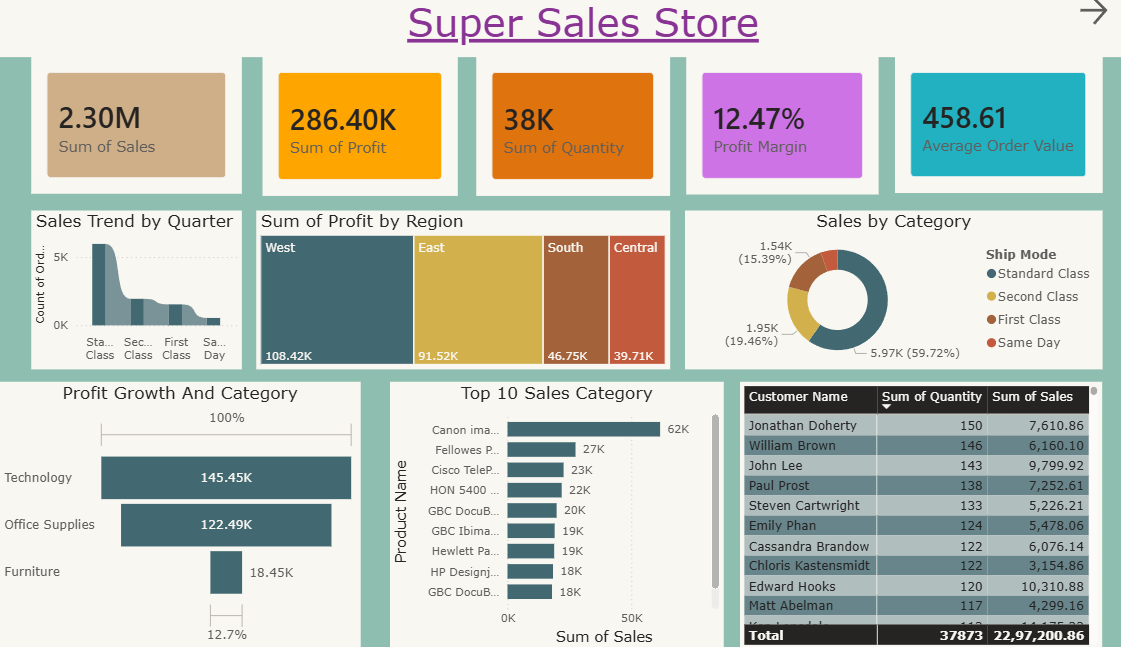

Layout of this report page (visuals, bound fields, positions):
{"tool":"powerbi","page":{"name":"Page 1","canvas":[1280,720],"ordinal":0},"visuals":[{"type":"cardVisual","fields":{"Data":["Sum(Superstore.Sales)"]},"box":[34.3,70,231.4,150],"z":0},{"type":"textbox","box":[0,0,1280,70],"z":1000},{"type":"cardVisual","fields":{"Data":["Sum(Superstore.Profit)"]},"box":[288.6,70,214.3,152.9],"z":2000},{"type":"cardVisual","fields":{"Data":["Sum(Superstore.Quantity)"]},"box":[522.9,70,212.9,152.9],"z":3000},{"type":"cardVisual","fields":{"Data":["Superstore.Profit Margin"]},"box":[752.9,70,211.4,151.4],"z":4000},{"type":"cardVisual","fields":{"Data":["Superstore.Average Order Value"]},"box":[982.5,70,227.8,149.6],"z":5000},{"type":"ribbonChart","title":"Sales Trend by Quarter","fields":{"Category":["Superstore.Ship Mode"],"Y":["CountNonNull(Superstore.Order Date)"]},"box":[34.3,238.6,231.4,174.3],"z":6000},{"type":"treemap","fields":{"Group":["Superstore.Region"],"Values":["Sum(Superstore.Profit)"]},"box":[281.4,238.6,454.3,174.3],"z":7000},{"type":"donutChart","title":"Sales by Category ","fields":{"Category":["Superstore.Ship Mode"],"Y":["CountNonNull(Superstore.Category)"]},"box":[752,238.8,458.3,174.3],"z":8000},{"type":"clusteredBarChart","title":"Top 10 Sales Category ","fields":{"Y":["Sum(Superstore.Sales)"],"Category":["Superstore.Product Name"]},"box":[428.1,426.8,366.4,293.7],"z":10000},{"type":"pivotTable","fields":{"Values":["Sum(Superstore.Quantity)","Sum(Superstore.Sales)"],"Rows":["Superstore.Customer Name"]},"box":[812.4,426.8,397.9,293.7],"z":11000},{"type":"actionButton","box":[1180.1,0,100.2,39.8],"z":12000},{"type":"funnel","title":"Profit Growth  And Category","fields":{"Category":["Superstore.Category","Superstore.Customer Name"],"Y":["Sum(Superstore.Profit)"]},"box":[0,427.1,395.7,292.9],"z":12001}]}

Visuals, with their boxes in screenshot pixels (x1, y1, x2, y2), scaled from the page's 1280x720 canvas onto the 1121x647 screenshot:
cardVisual - Sum(Superstore.Sales): box(30, 63, 233, 198)
textbox: box(0, 0, 1120, 63)
cardVisual - Sum(Superstore.Profit): box(253, 63, 440, 200)
cardVisual - Sum(Superstore.Quantity): box(458, 63, 644, 200)
cardVisual - Superstore.Profit Margin: box(659, 63, 845, 199)
cardVisual - Superstore.Average Order Value: box(860, 63, 1060, 197)
"Sales Trend by Quarter" ribbonChart: box(30, 214, 233, 371)
treemap - Superstore.Region x Sum(Superstore.Profit): box(246, 214, 644, 371)
"Sales by Category " donutChart: box(659, 215, 1060, 371)
"Top 10 Sales Category " clusteredBarChart: box(375, 384, 696, 646)
pivotTable - Sum(Superstore.Quantity) x Sum(Superstore.Sales): box(711, 384, 1060, 646)
actionButton: box(1034, 0, 1120, 36)
"Profit Growth  And Category" funnel: box(0, 384, 347, 646)
